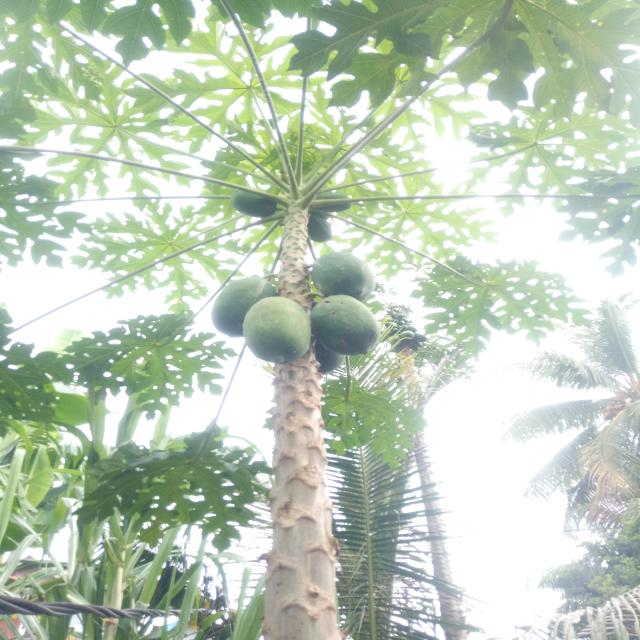Pepaya unrippen: (240, 298, 314, 365), (308, 293, 378, 358), (299, 250, 377, 304), (207, 280, 270, 332)
